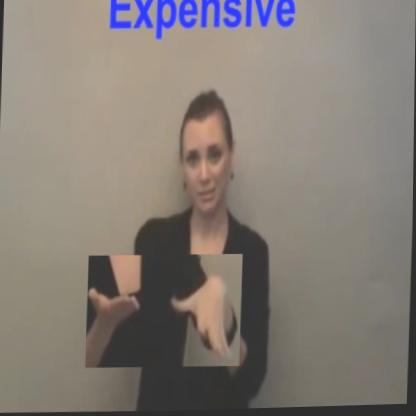Expensive: (86, 253, 243, 371)
